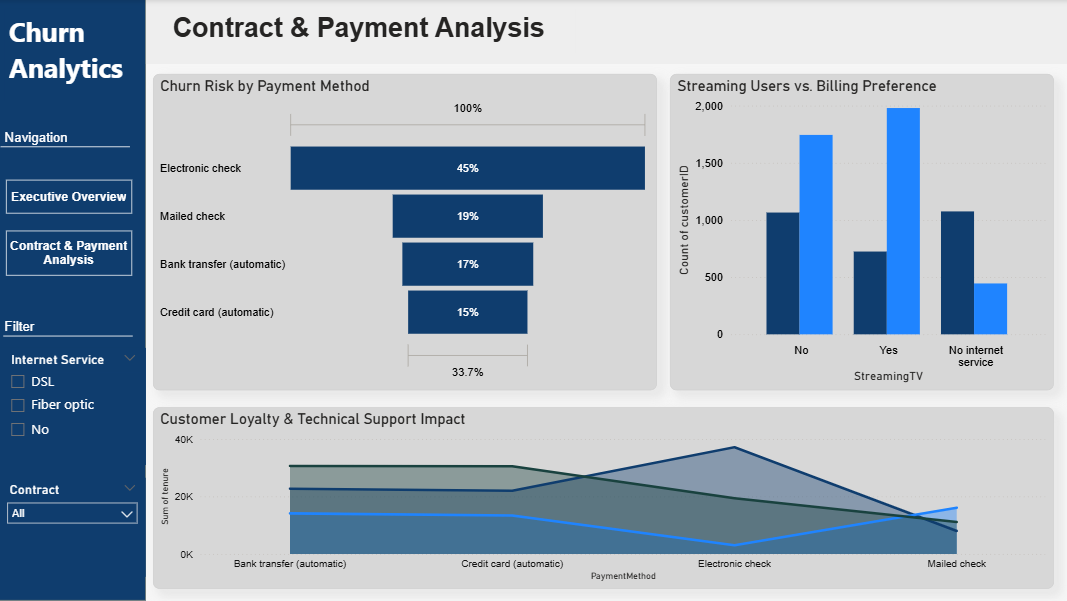

This screenshot's page, from the dashboard's own definition file:
{"tool":"powerbi","page":{"name":"Contract & Payment Analysis","canvas":[1280,720],"ordinal":1},"visuals":[{"type":"shape","box":[0,0,175.8,720.2],"z":0},{"type":"textbox","box":[2.5,152.8,104.8,32.1],"z":1000},{"type":"shape","box":[2.4,169.5,154.8,15.6],"z":2000},{"type":"textbox","box":[2,379.5,104.5,31.8],"z":3000},{"type":"shape","box":[5.2,395.7,154.8,15.6],"z":4000},{"type":"actionButton","box":[9.3,216.2,150.4,40.6],"z":5000},{"type":"slicer","fields":{"Values":["Contract Analysis.Contract"]},"box":[0,573.1,175.8,118.3],"z":6000},{"type":"slicer","fields":{"Values":["clean_telco_churn.InternetService"]},"box":[1.7,417.6,174.1,140.3],"z":7000},{"type":"actionButton","box":[9.3,277.1,150.4,54.1],"z":8000},{"type":"textbox","box":[6.8,11.8,153.8,109.9],"z":9000},{"type":"shape","box":[175.8,0,1103.9,77.8],"z":10000},{"type":"textbox","box":[202.9,11.8,486.9,52.4],"z":11000},{"type":"funnel","title":"Churn Risk by Payment Method","fields":{"Category":["Payment Method Analysis.PaymentMethod"],"Y":["clean_telco_churn.Churn Rate"]},"box":[184.5,90.3,603.3,378.5],"z":12000},{"type":"clusteredColumnChart","title":"Streaming Users vs. Billing Preference","fields":{"Category":["clean_telco_churn.StreamingTV"],"Y":["Count(clean_telco_churn.customerID)"],"Series":["clean_telco_churn.PaperlessBilling"]},"box":[803.2,90.3,459.2,378.5],"z":13000},{"type":"areaChart","title":"Customer Loyalty & Technical Support Impact","fields":{"Category":["clean_telco_churn.PaymentMethod"],"Series":["clean_telco_churn.TechSupport"],"Y":["Sum(clean_telco_churn.tenure)"]},"box":[184.5,488,1077.9,217.1],"z":14000}]}

Visuals, with their boxes on the page's 1280x720 design canvas (x1, y1, x2, y2). These are canvas units, not pixel positions in the 1067x601 screenshot, which may show the page scaled, cropped or inside an application window:
shape: (left=0, top=0, right=176, bottom=720)
textbox: (left=2, top=153, right=107, bottom=185)
shape: (left=2, top=170, right=157, bottom=185)
textbox: (left=2, top=380, right=106, bottom=411)
shape: (left=5, top=396, right=160, bottom=411)
actionButton: (left=9, top=216, right=160, bottom=257)
slicer - Contract Analysis.Contract: (left=0, top=573, right=176, bottom=691)
slicer - clean_telco_churn.InternetService: (left=2, top=418, right=176, bottom=558)
actionButton: (left=9, top=277, right=160, bottom=331)
textbox: (left=7, top=12, right=161, bottom=122)
shape: (left=176, top=0, right=1280, bottom=78)
textbox: (left=203, top=12, right=690, bottom=64)
"Churn Risk by Payment Method" funnel: (left=184, top=90, right=788, bottom=469)
"Streaming Users vs. Billing Preference" clusteredColumnChart: (left=803, top=90, right=1262, bottom=469)
"Customer Loyalty & Technical Support Impact" areaChart: (left=184, top=488, right=1262, bottom=705)
